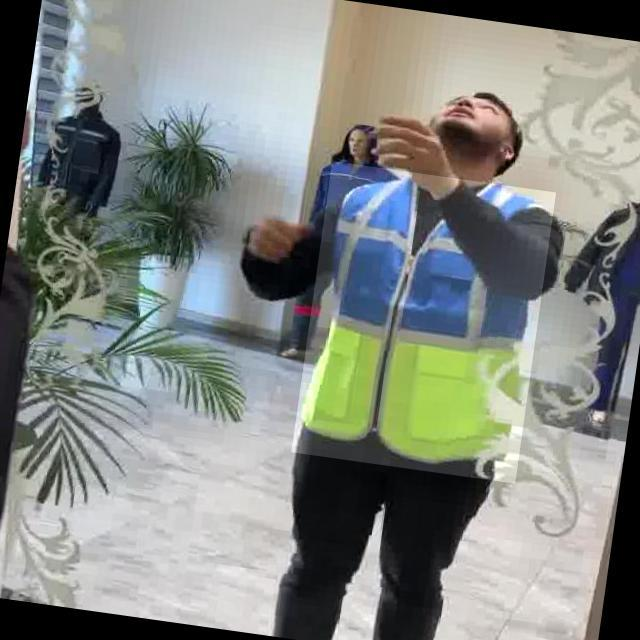Safety Vest: (291, 161, 556, 484)
